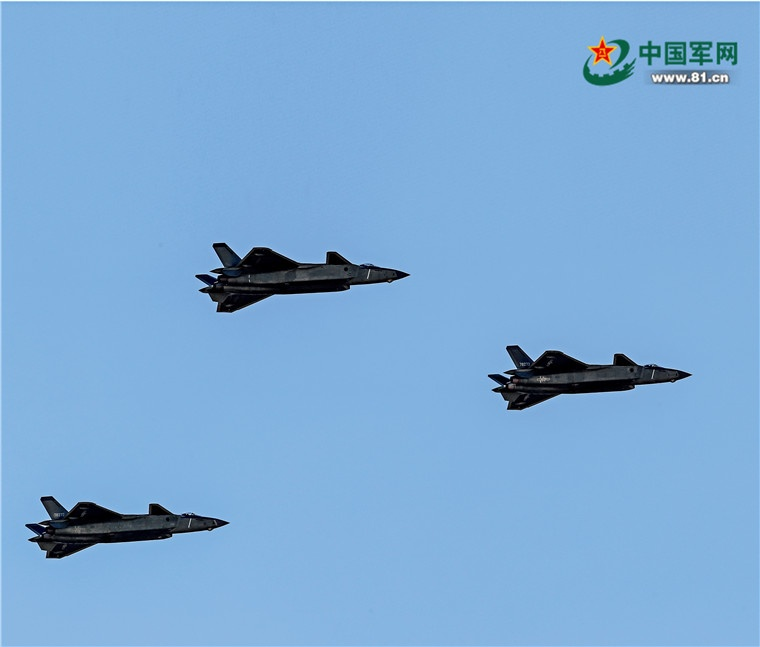airplane: (482, 330, 690, 415), (23, 481, 230, 566), (194, 239, 411, 316)
